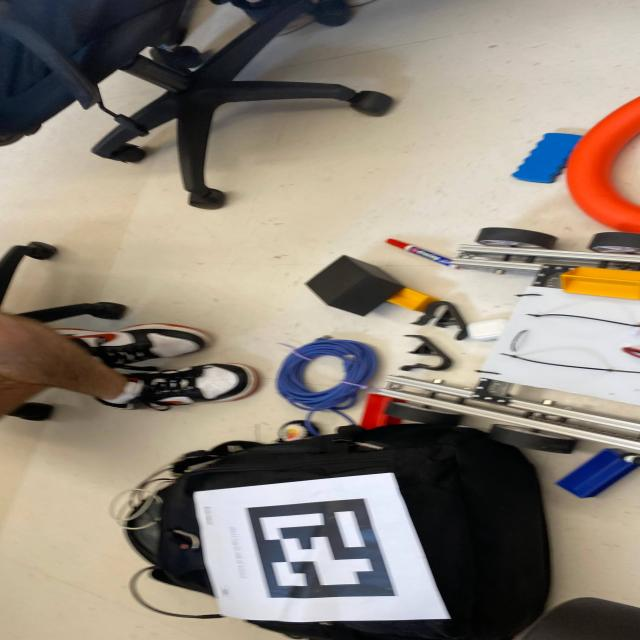blue-specimen: (556, 449, 640, 498)
red-specimen: (359, 393, 403, 429)
yellow-specimen: (558, 267, 640, 300), (386, 288, 436, 313)
